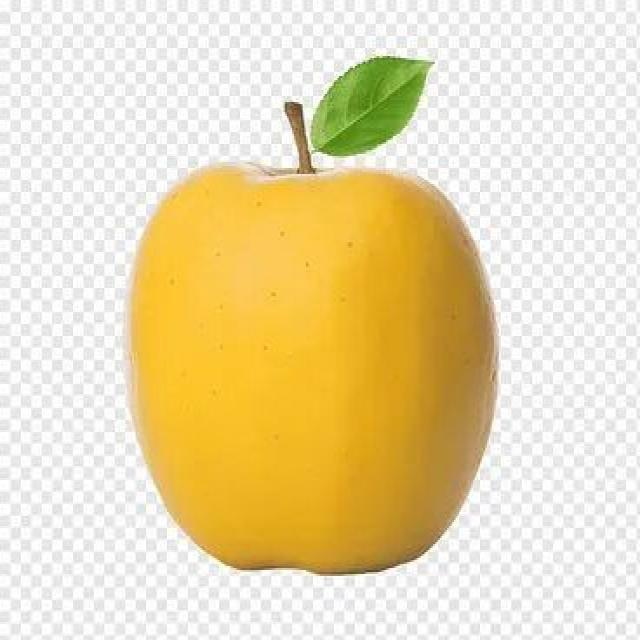Fresh Apple: (153, 155, 485, 588)
